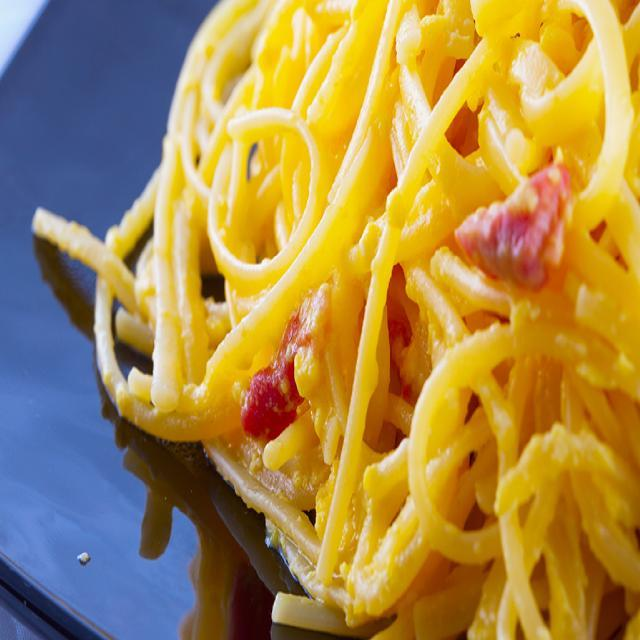Pasta with carbonara sauce: (82, 7, 636, 596)
